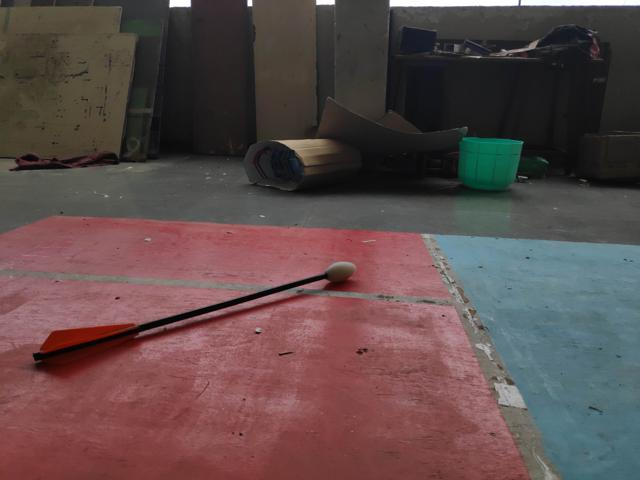Head: (320, 258, 358, 284)
